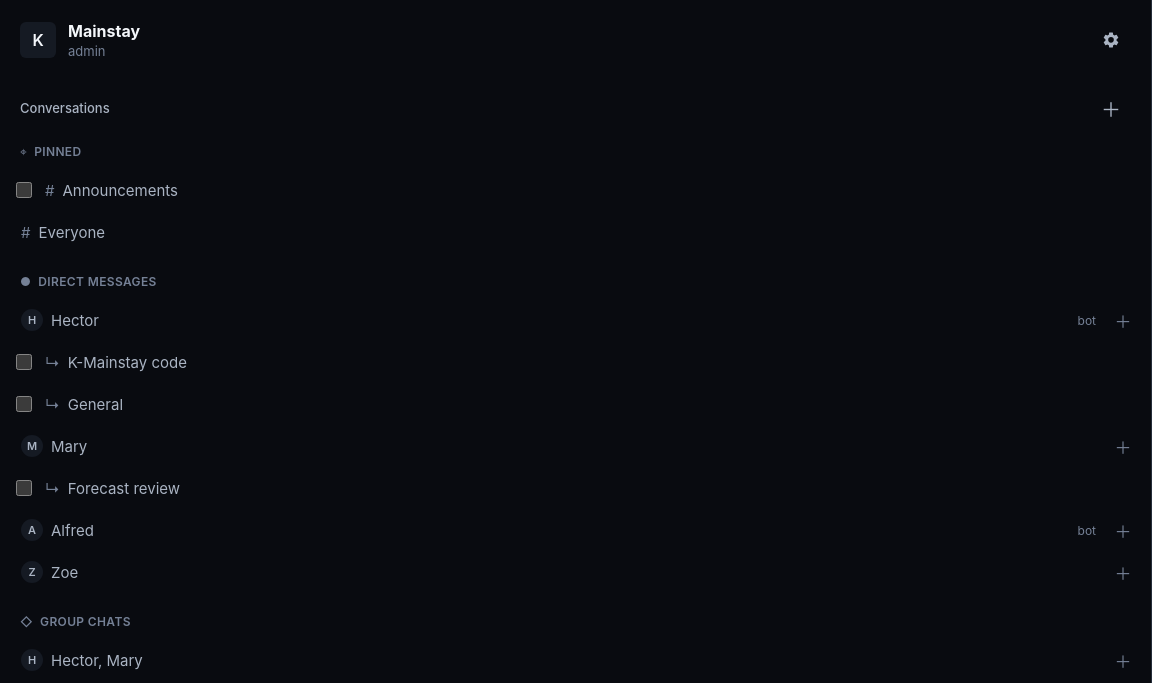
Test case: WorkspaceSidebar › keeps permanent bulk deletion unavailable when a direct chat is selected
The width and height of the screenshot is (1152, 683).
Click the 2nd checkbox with test id "conversation-checkbox".
click(24, 362)  # box [16,354,32,370]
(page scrolled)
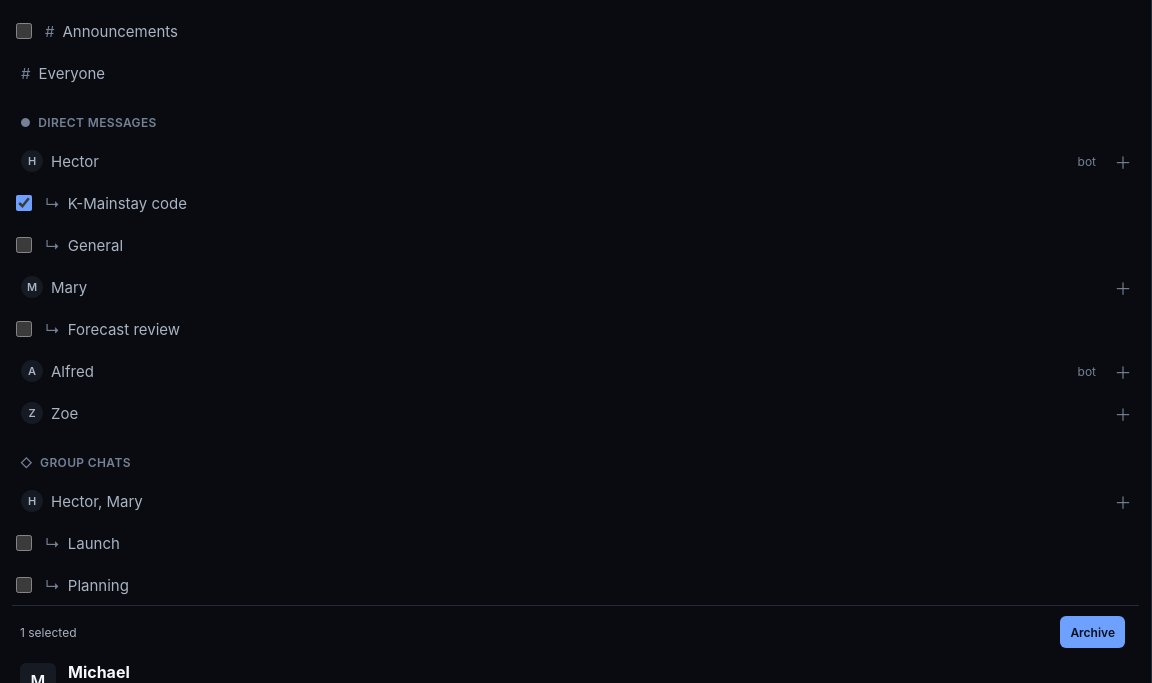
Now the button with test id "bulk-archive-conversations" reads "Archive", box [1060,616,1125,648]
